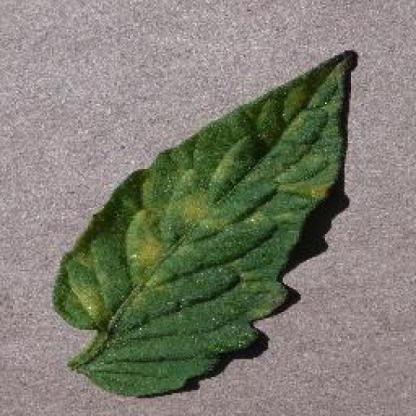Tomato_Leaf_Mold: (56, 45, 359, 330)
